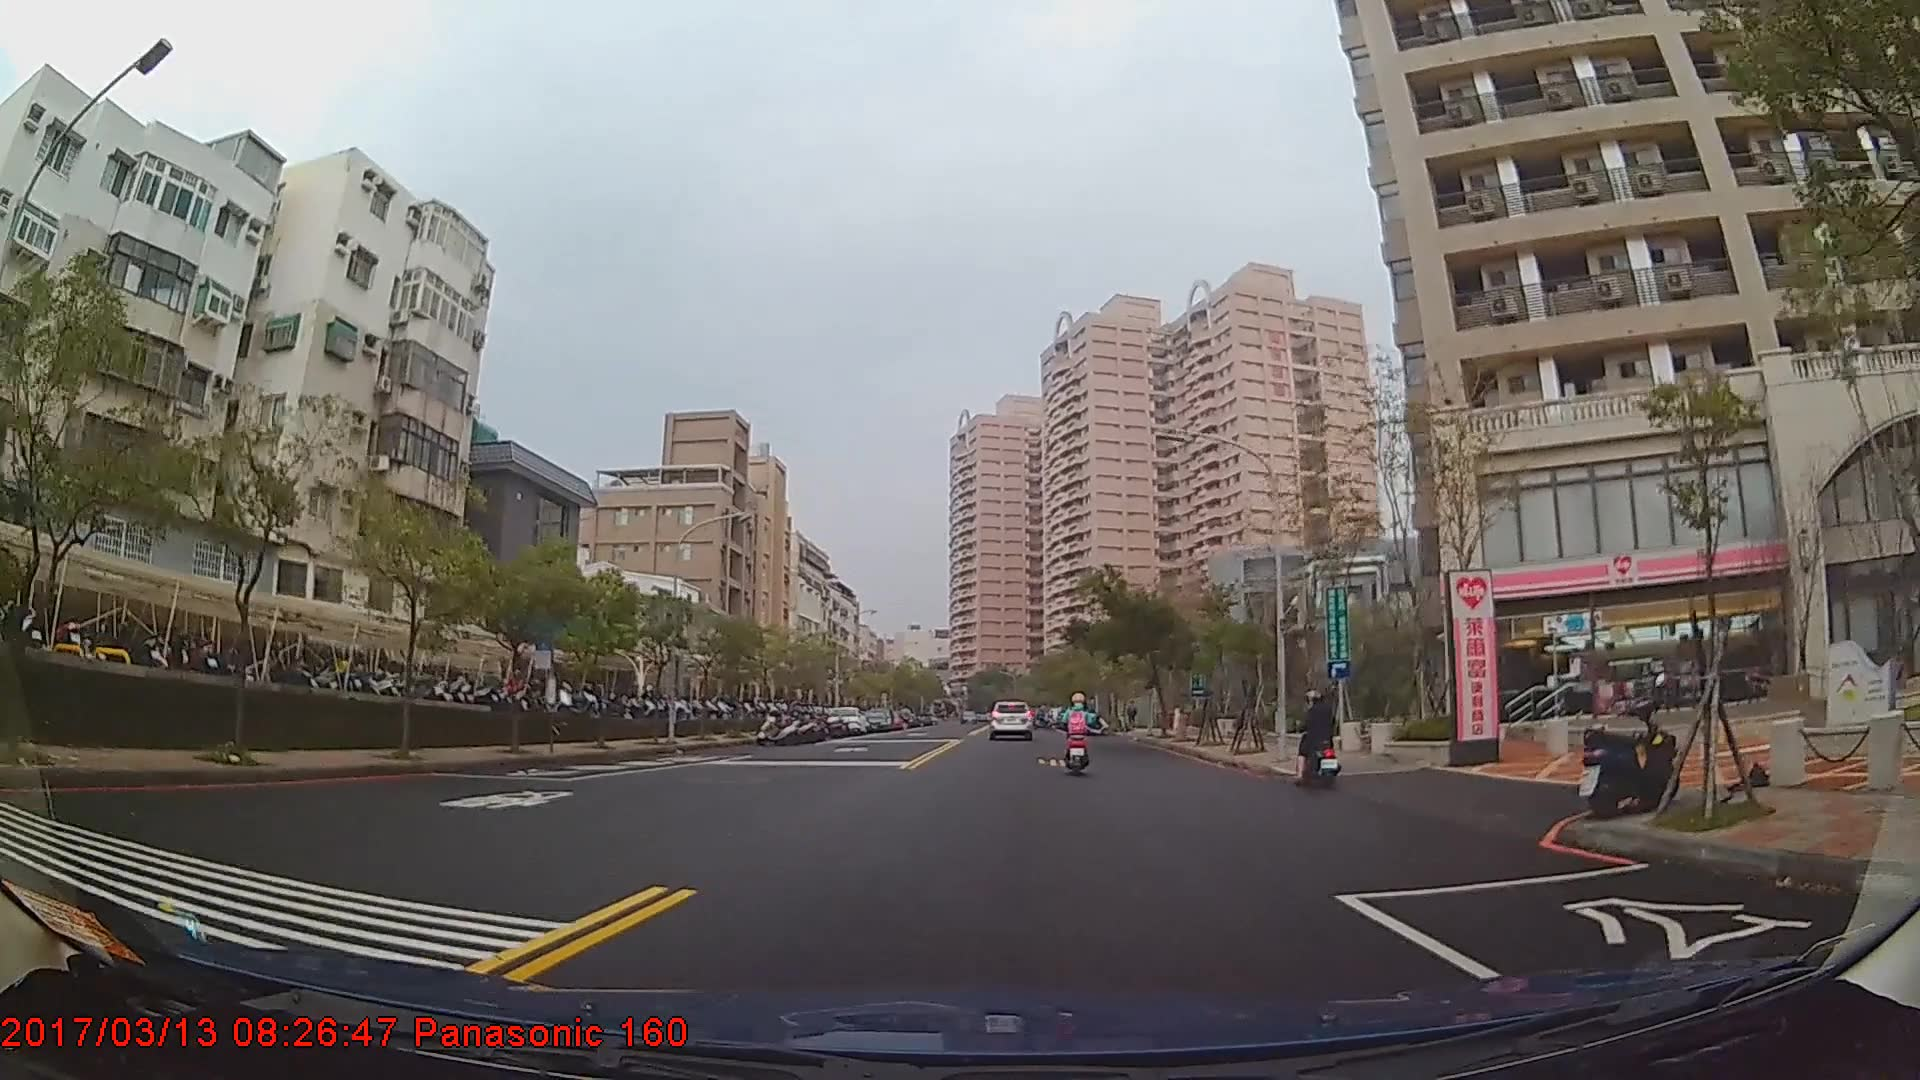rider: (1297, 687, 1341, 781), (1060, 692, 1099, 772)
vehicle: (986, 699, 1037, 738), (825, 704, 863, 733)
